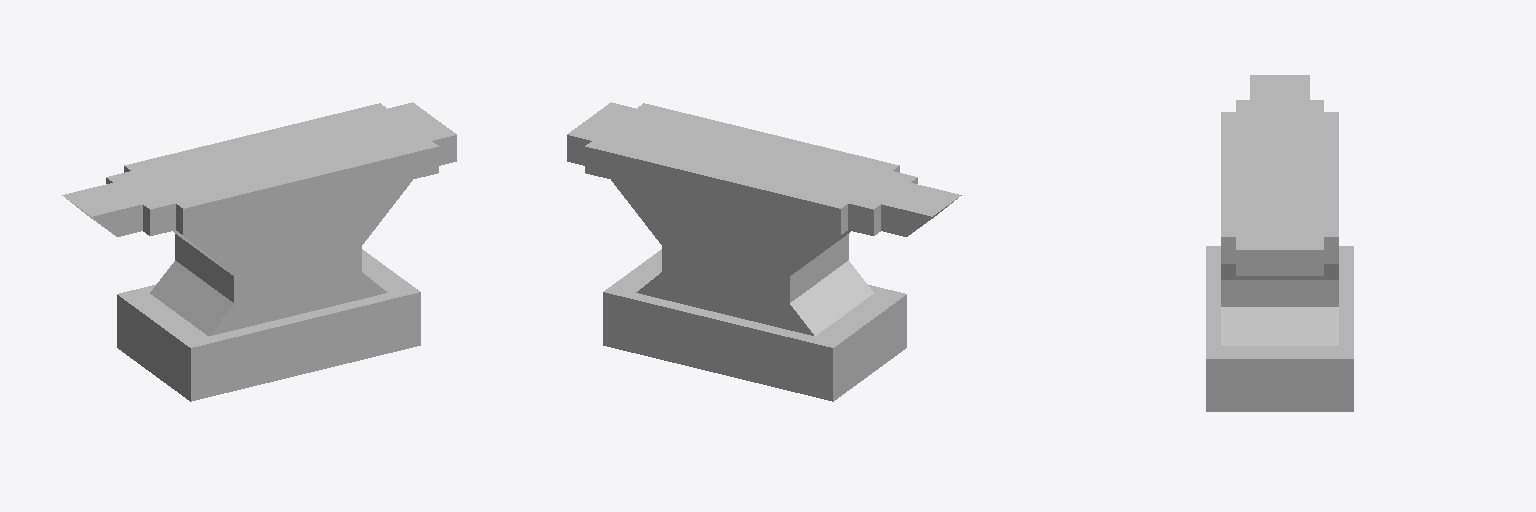
Rendered from Anvil.obj.
The picture shows the model from 3 angles: view 1: azimuth 30°, elevation 25°; view 2: azimuth 150°, elevation 25°; view 3: azimuth 270°, elevation 25°; orthographic projection.
Size of the model in its own units: 14 by 7 by 5.